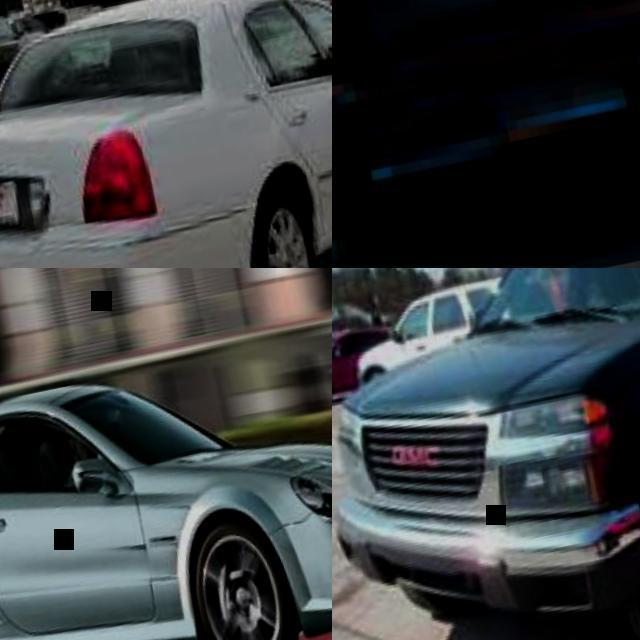car: (330, 269, 637, 620), (0, 0, 333, 263), (0, 351, 289, 639)
